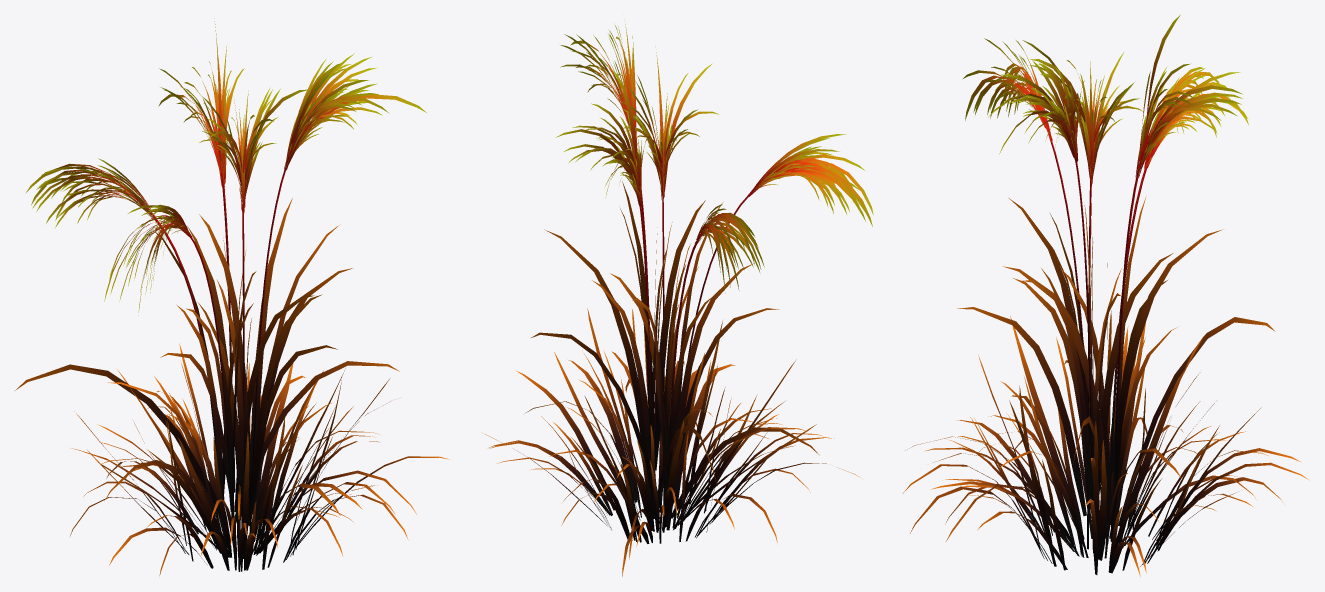
Rendered from SM_Eulalia.fbx.
The picture shows the model from 3 angles, left to right: view 1: azimuth 30°, elevation 25°; view 2: azimuth 150°, elevation 25°; view 3: azimuth 270°, elevation 25°; orthographic projection. The views are drawn at different scales.
Visible parts, largest first — view 1: Box005; view 2: Box005; view 3: Box005.
Part boxes in pixels (x1,y1,x2,y2): Box005: [15, 18, 449, 575]; Box005: [485, 20, 873, 576]; Box005: [903, 14, 1309, 576].
Bounding box in the file's own units: 88.69 × 125 × 85.42.
